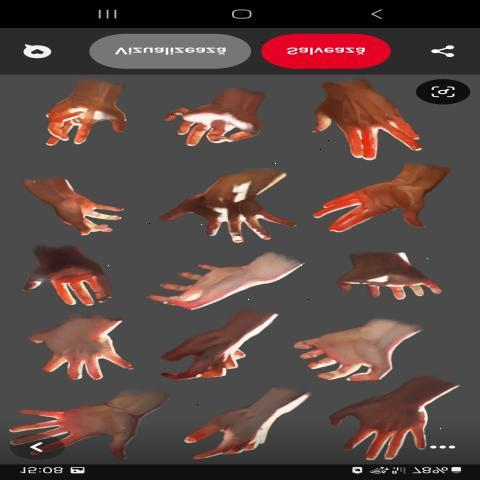Hands: (142, 243, 315, 338), (307, 155, 469, 253), (324, 369, 471, 469), (149, 170, 302, 257), (8, 390, 178, 462), (150, 308, 300, 389), (298, 312, 435, 400), (300, 85, 438, 170), (182, 391, 318, 469), (151, 89, 283, 160), (333, 255, 455, 326), (16, 244, 136, 313), (28, 88, 147, 157), (23, 323, 139, 391), (28, 173, 144, 239)
